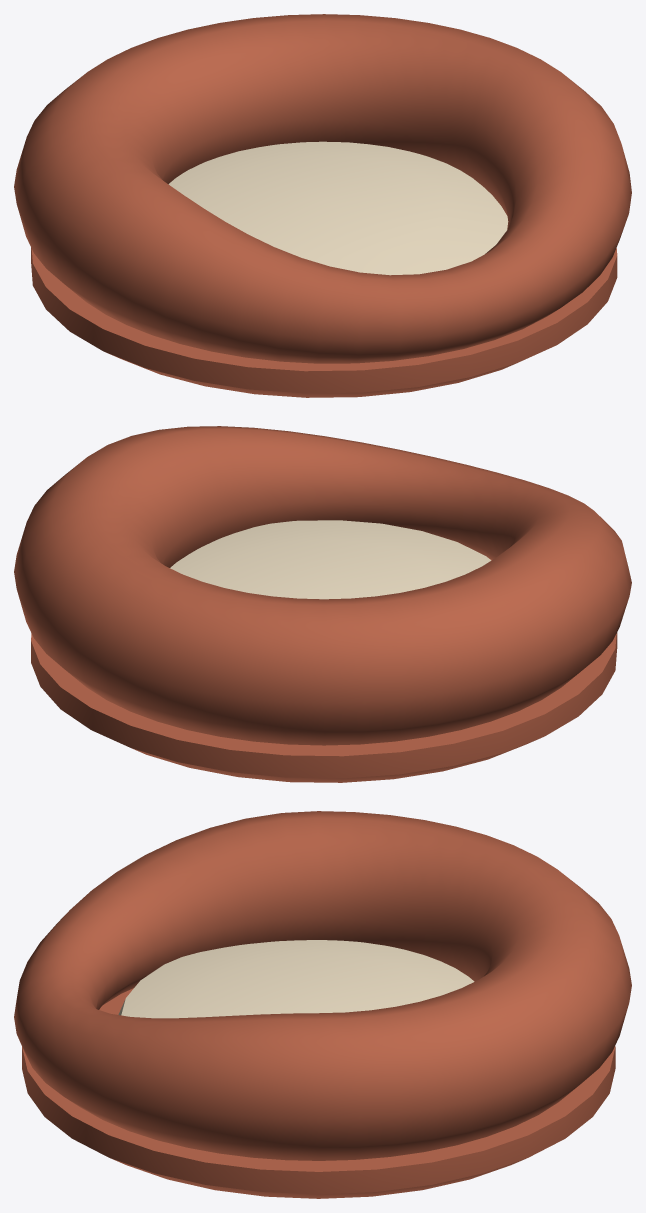
Rendered from caminha-gato.glb.
3 renders of one model, top to bottom at view 1: azimuth 30°, elevation 25°; view 2: azimuth 150°, elevation 25°; view 3: azimuth 270°, elevation 25°, orthographic.
Parts seen in each view (by area): view 1: borda, almofada; view 2: borda, almofada; view 3: borda, almofada.
Boxes of the visible parts, <box> form: borda: <box>14,14,631,397</box>; almofada: <box>168,141,508,275</box>; borda: <box>14,426,631,782</box>; almofada: <box>170,520,491,599</box>; borda: <box>14,811,631,1198</box>; almofada: <box>118,940,474,1018</box>.
Bounding box in the file's own units: 0.76 × 0.221 × 0.7497.
